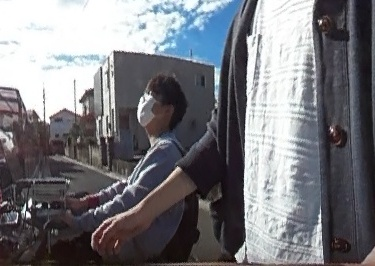person: (45, 71, 193, 266)
